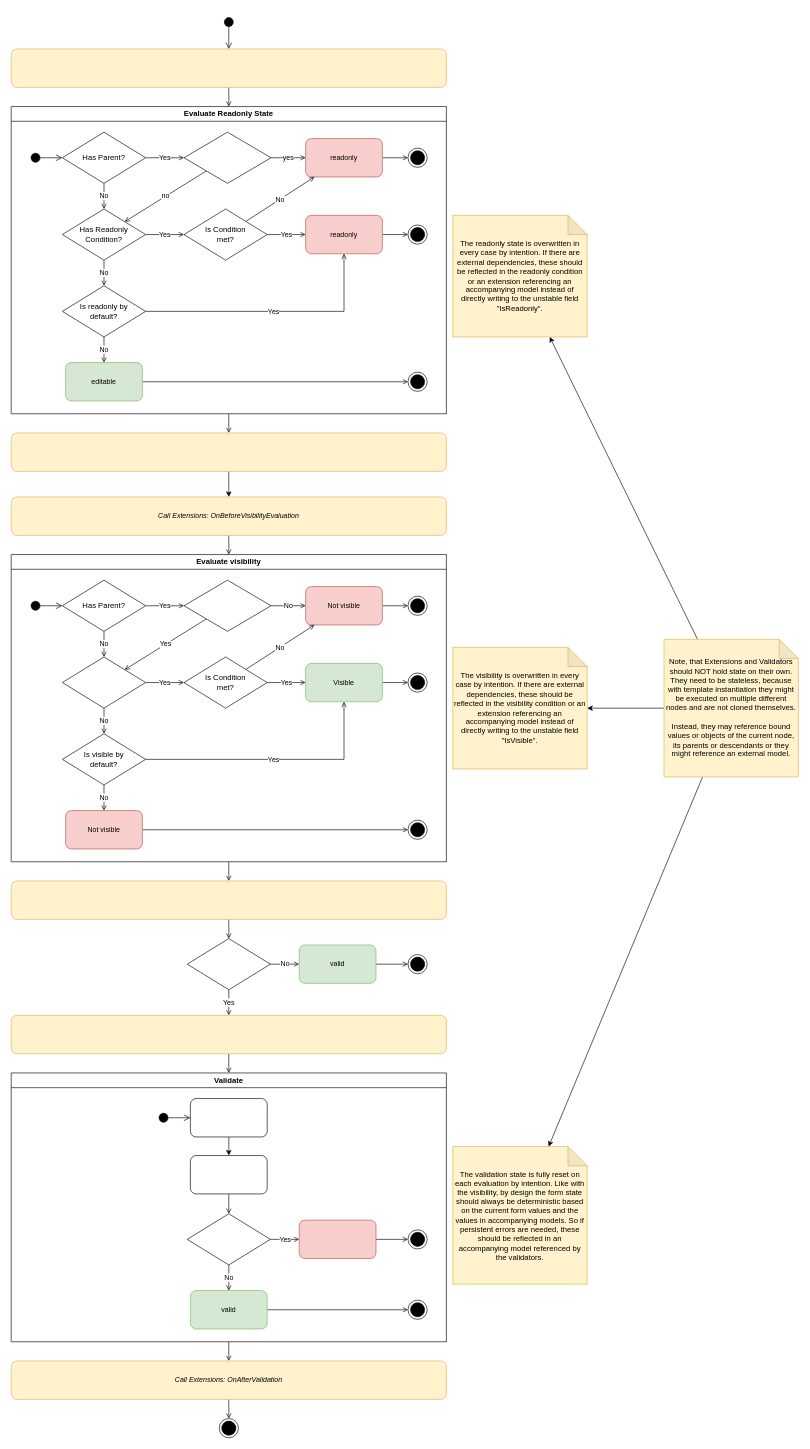
The diagram is 810 pixels wide and 1449 high, and some of its shapes have lost their labels. Each missing label, with the centre of its shape:
"Call Extensions : OnAfter ReadonlyState Evaluation" belongs at point (228, 451).
"Call Extensions : OnAfterVisibilityEvaluation" belongs at point (228, 899).
"Call Extensions : OnBeforeValidation" belongs at point (228, 1034).
"Call Extensions: OnBeforeReadonlyStateEvaluation" belongs at point (228, 67).
"Clear validation errors" belongs at point (228, 1117).
"Has validation errors?" belongs at point (228, 1239).
"Has Visibility Condition?" belongs at point (104, 682).
"Is Parent readonly?" belongs at point (227, 157).
"Is Parent visible?" belongs at point (227, 605).
"Is visible?" belongs at point (228, 964).
"Not valid" belongs at point (337, 1239).
"Run each validator" belongs at point (228, 1174).
